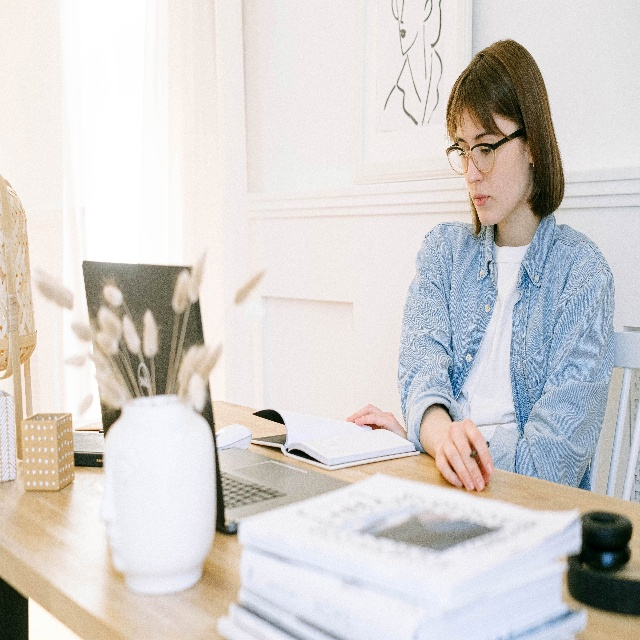Gafas: (445, 128, 526, 173)
Sin_guantes: (436, 422, 493, 491), (345, 402, 408, 440)
